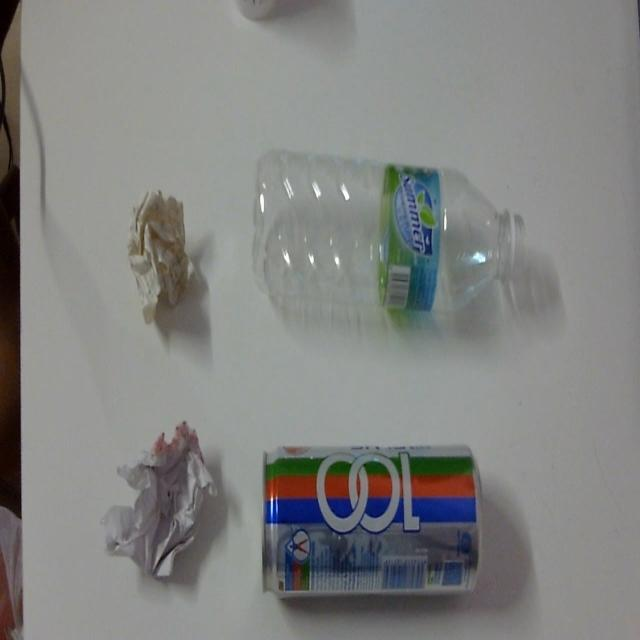metal_laydown_0rotation: (253, 436, 491, 617)
paperrotation: (95, 399, 225, 609), (122, 176, 205, 332)
plastic_laydown_0rotation: (244, 140, 531, 340)
